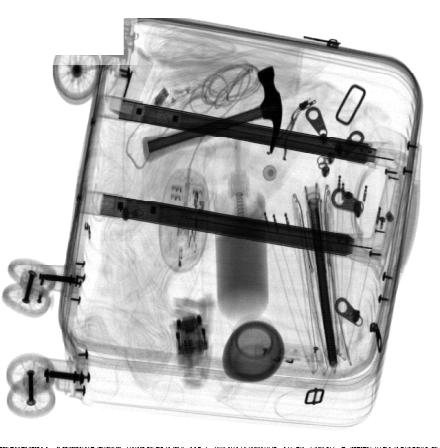Hammer: (141, 65, 283, 164)
